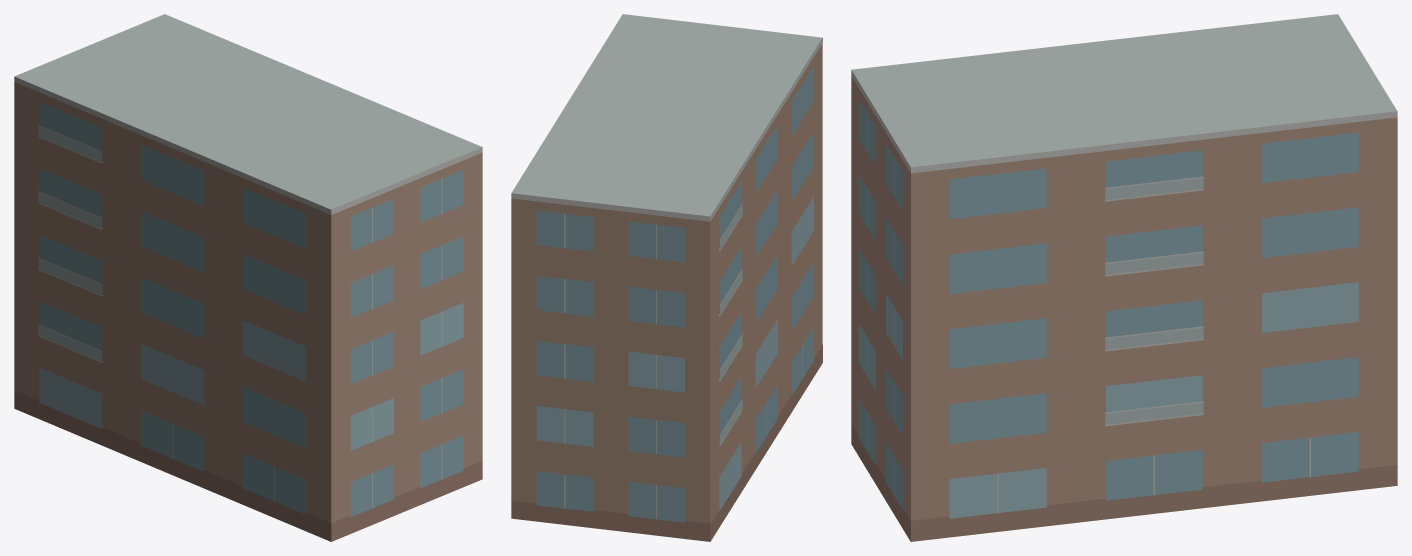
File: survey-upis-32579379.glb
3 views of the same model, side by side, from view 1: azimuth 30°, elevation 25°; view 2: azimuth 150°, elevation 25°; view 3: azimuth 270°, elevation 25° (orthographic). The views are drawn at different scales.
Parts seen in each view (by area): view 1: survey-upis-32579379.tmp; view 2: survey-upis-32579379.tmp; view 3: survey-upis-32579379.tmp.
Boxes of the visible parts, x1,y1,x2,y2 form: survey-upis-32579379.tmp: (14, 14, 482, 541); survey-upis-32579379.tmp: (511, 14, 822, 541); survey-upis-32579379.tmp: (851, 14, 1397, 541).
Bounding box in the file's own units: 13.41 × 15.25 × 20.17.
